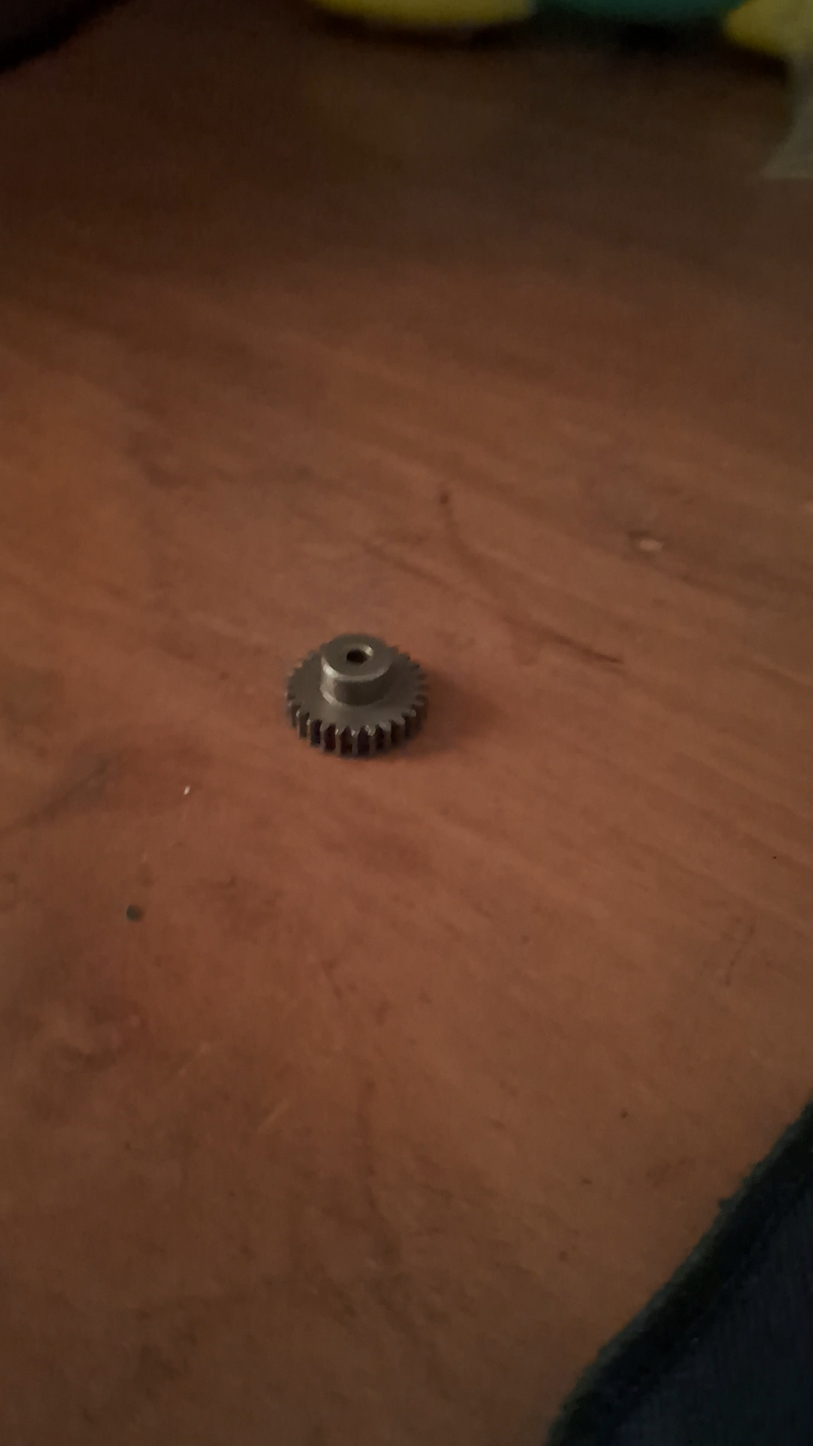spur gear: (286, 635, 426, 756)
